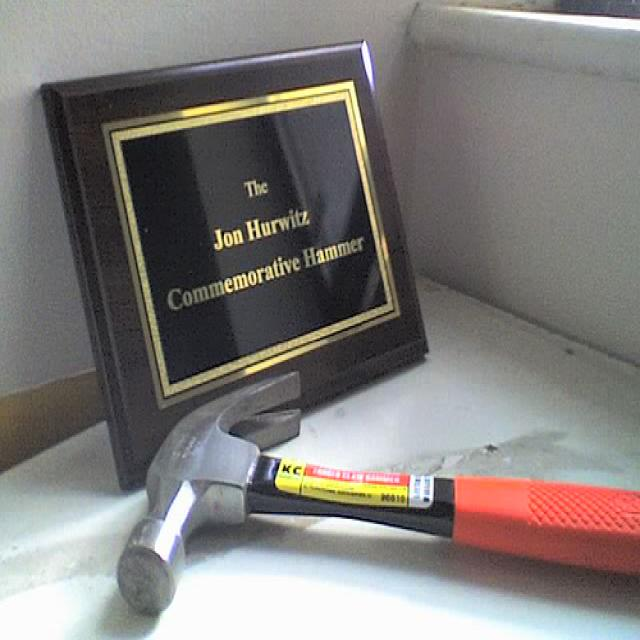hammer: (77, 345, 640, 640)
